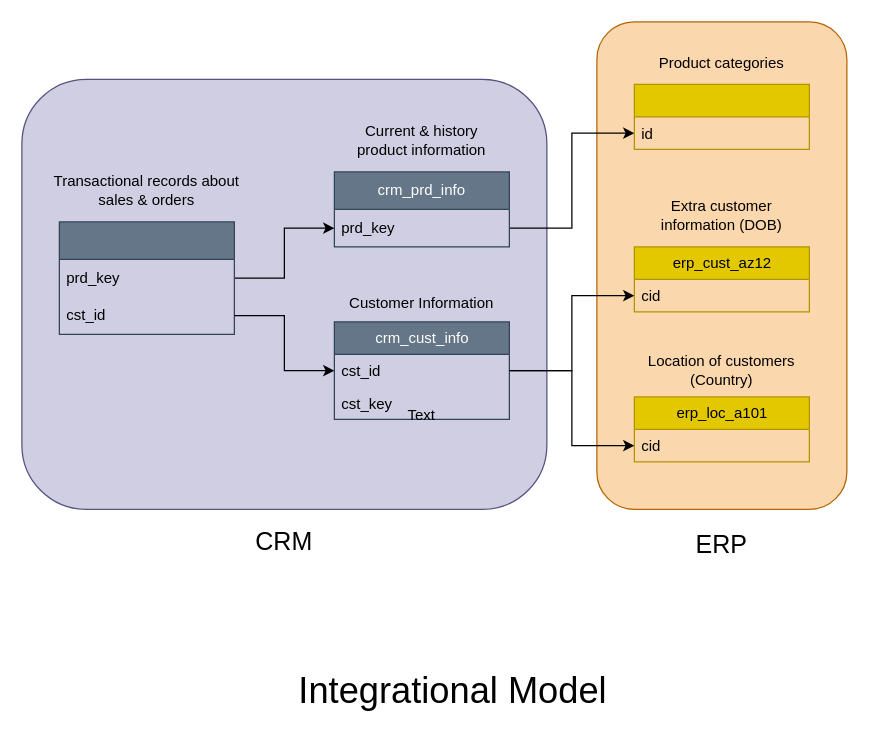
This 869x734 diagram has some shape labels left out. Each missing label, with the box of its shape:
crm_sales_details: (58, 221, 234, 334)
erp_px_cat_g1v2: (633, 83, 809, 149)
